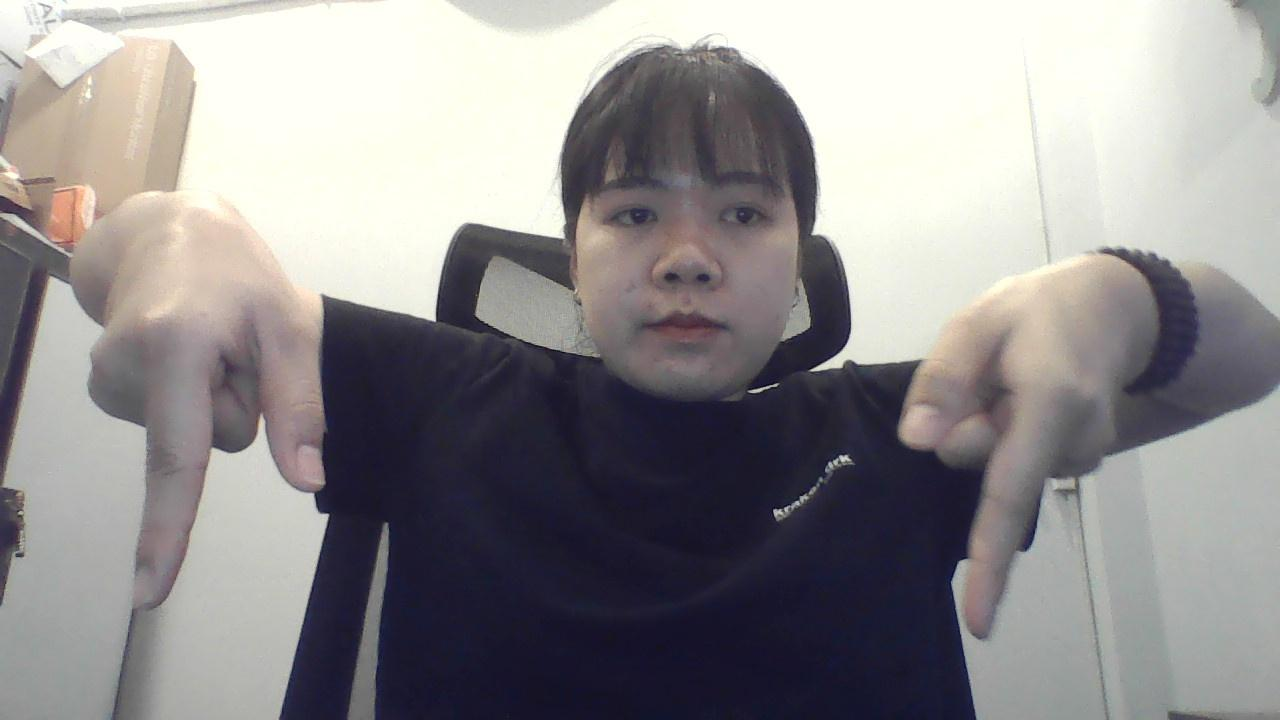Q: (70, 229, 338, 632), (889, 249, 1139, 656)
